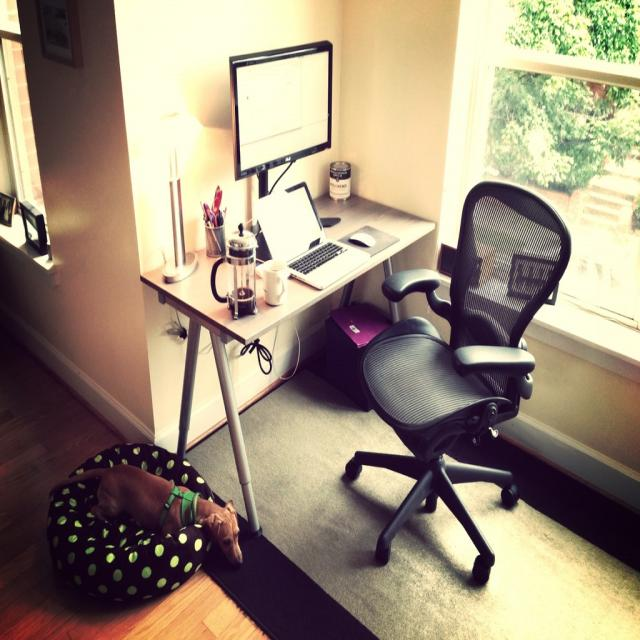chair: (342, 181, 571, 580)
desk: (143, 192, 435, 528)
keyboard: (290, 241, 346, 272)
laptop: (255, 178, 373, 292)
tv: (229, 41, 333, 183)
